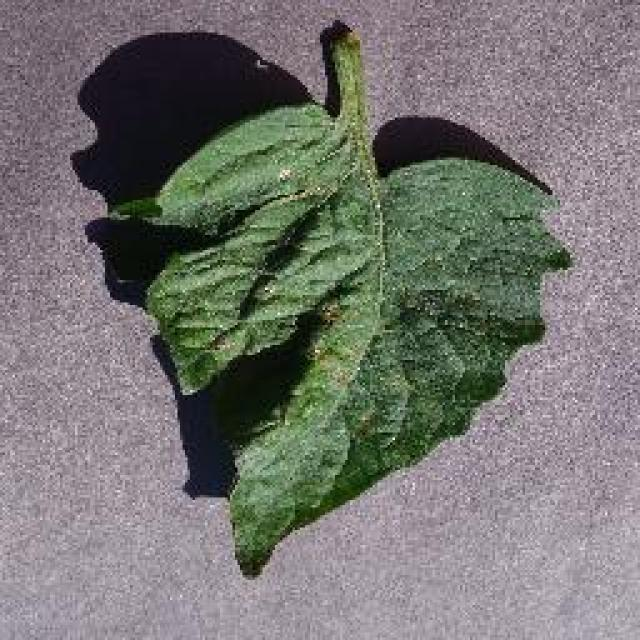Tomato___Target_Spot: (108, 32, 568, 572)
